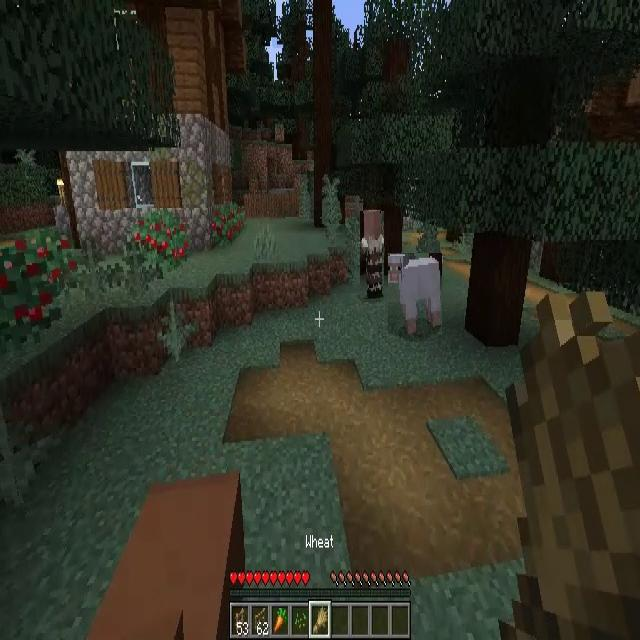people: (360, 211, 384, 298)
sheep: (388, 253, 442, 334)
